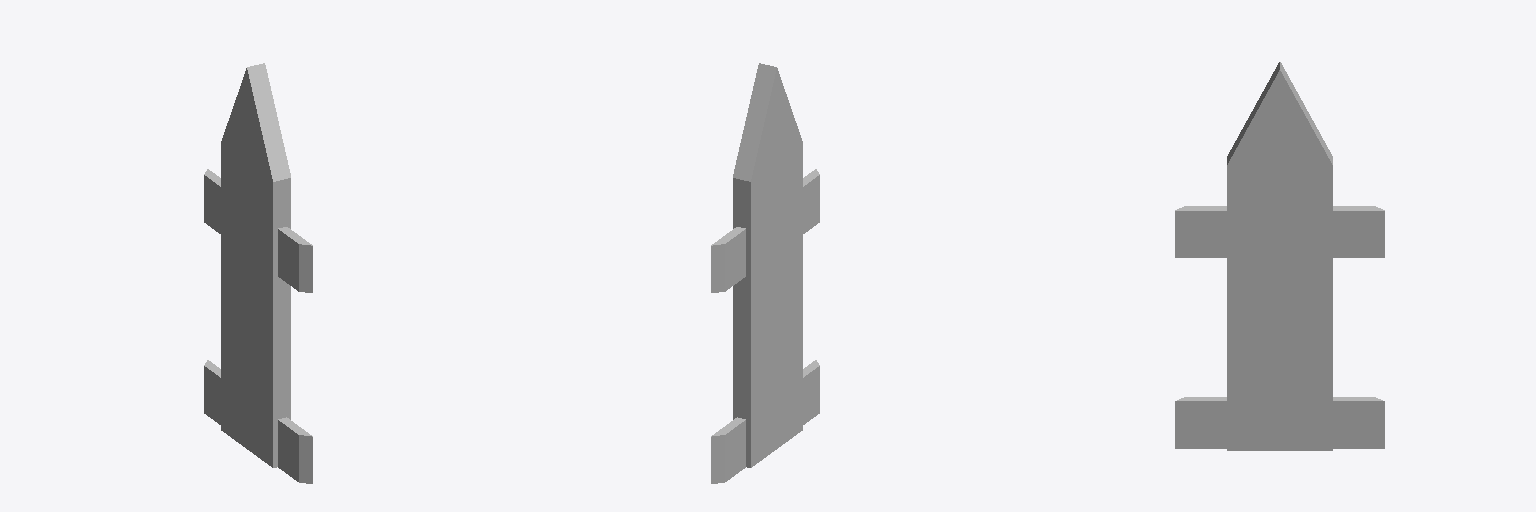
The model's file is fence.obj.
3 renders of one model, left to right at view 1: azimuth 30°, elevation 25°; view 2: azimuth 150°, elevation 25°; view 3: azimuth 270°, elevation 25°, orthographic.
Parts seen in each view (by area): view 1: pCube1, pCube5; view 2: pCube1, pCube5; view 3: pCube1, pCube5.
Part boxes in pixels (x1,y1,x2,y2): pCube1: (221, 63, 290, 467); pCube5: (204, 169, 312, 483); pCube1: (733, 63, 802, 467); pCube5: (711, 169, 819, 483); pCube1: (1227, 62, 1332, 450); pCube5: (1175, 206, 1384, 448).
Size of the model in its own units: 0.2 by 4 by 2.